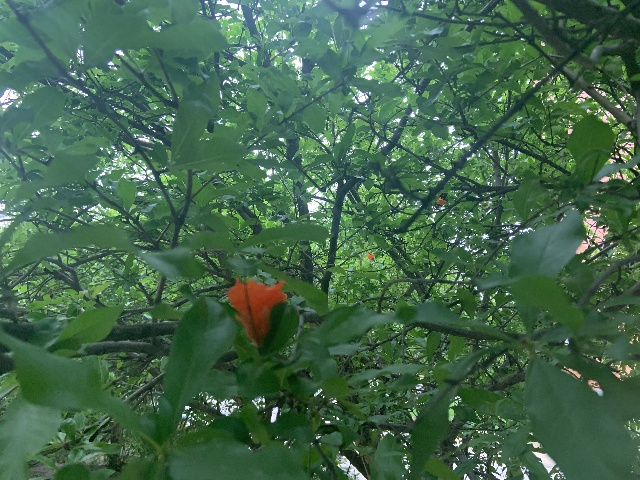flower: (227, 276, 287, 346), (436, 196, 445, 206), (366, 253, 374, 260)
